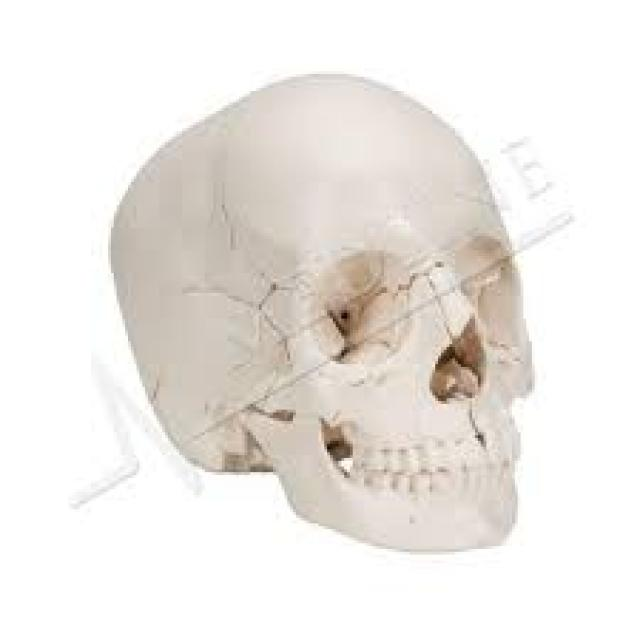skull: (103, 59, 555, 558)
